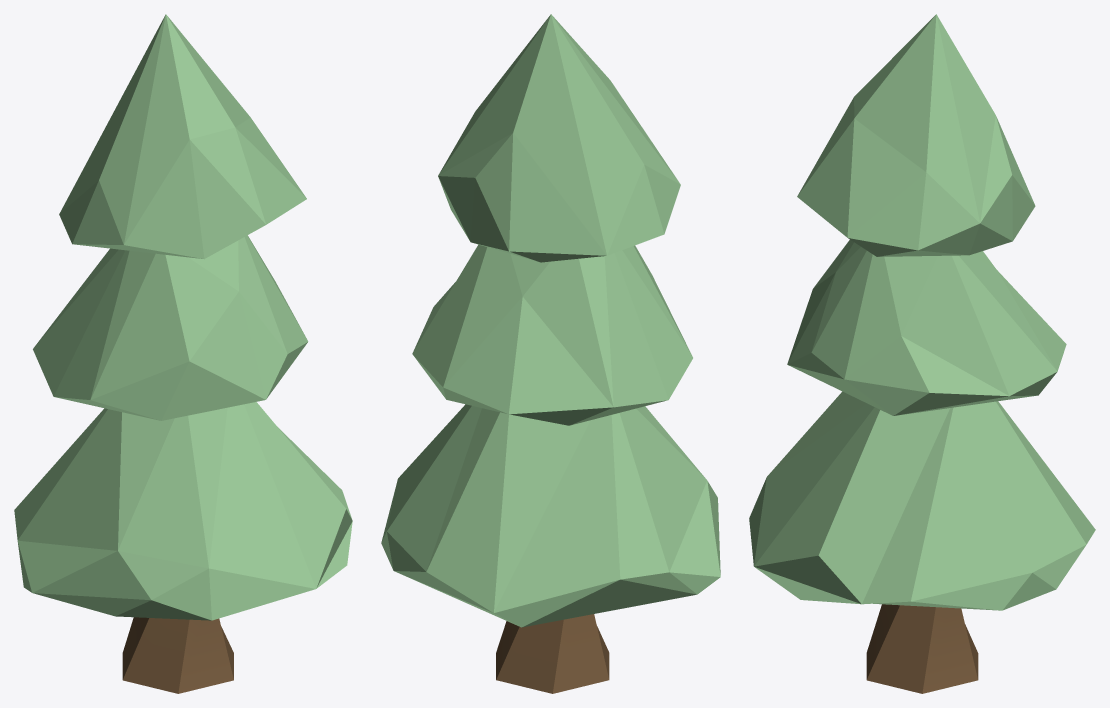
Rendered from GreenPine.fbx.
3 views of the same model, side by side, from view 1: azimuth 30°, elevation 25°; view 2: azimuth 150°, elevation 25°; view 3: azimuth 270°, elevation 25° (orthographic).
Parts seen in each view (by area): view 1: pCylinder3; view 2: pCylinder3; view 3: pCylinder3.
Boxes of the visible parts, x1,y1,x2,y2 form: pCylinder3: [14, 14, 352, 693]; pCylinder3: [381, 14, 720, 693]; pCylinder3: [749, 14, 1095, 693].
Bounding box in the file's own units: 2.74 × 5.42 × 2.62.
